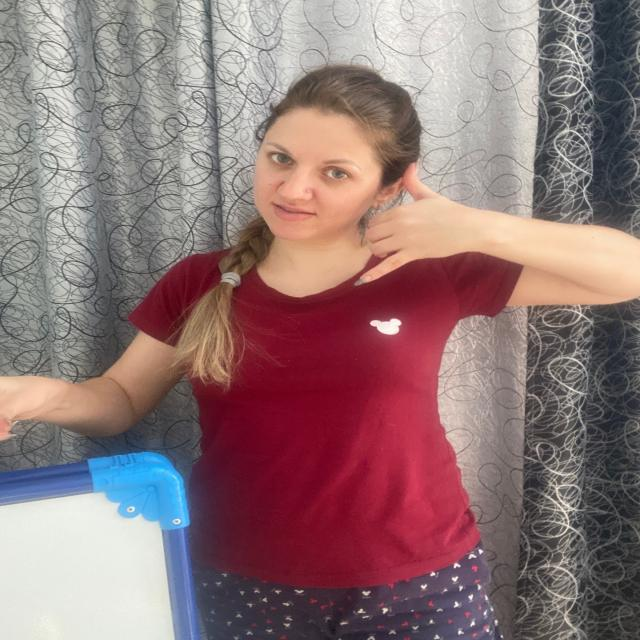call: (346, 155, 482, 292)
